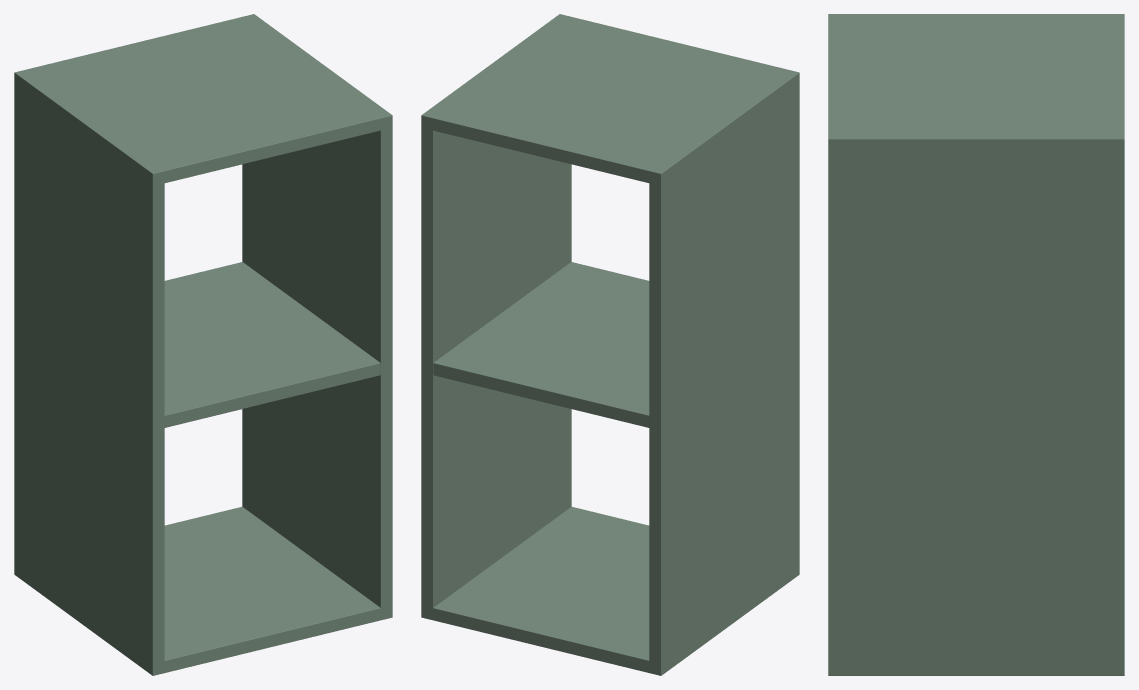
Rendered from MOD_1X2_S_O_VA.glb.
3 renders of one model, left to right at view 1: azimuth 30°, elevation 25°; view 2: azimuth 150°, elevation 25°; view 3: azimuth 270°, elevation 25°, orthographic. The views are drawn at different scales.
Size of the model in its own units: 360 by 720 by 360.
